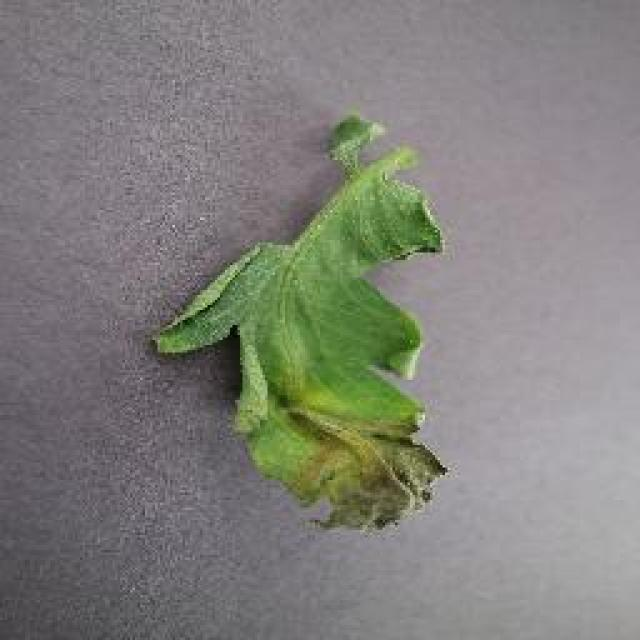Tomato Late Blight: (226, 392, 502, 548)
